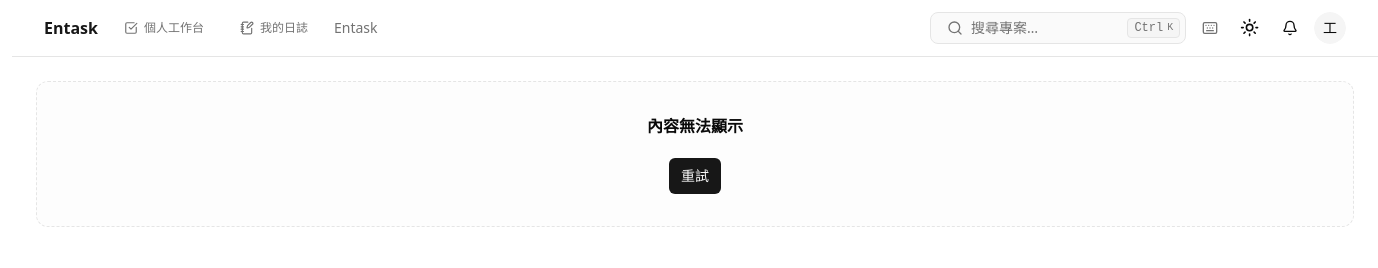
AppLayout 的 lazy 邊界在導覽後退場 › 子路由的 chunk 失敗後導覽到別的路由，錯誤畫面要退場
Click the link "個人工作台".
click(164, 28)  # box [124,19,204,36]
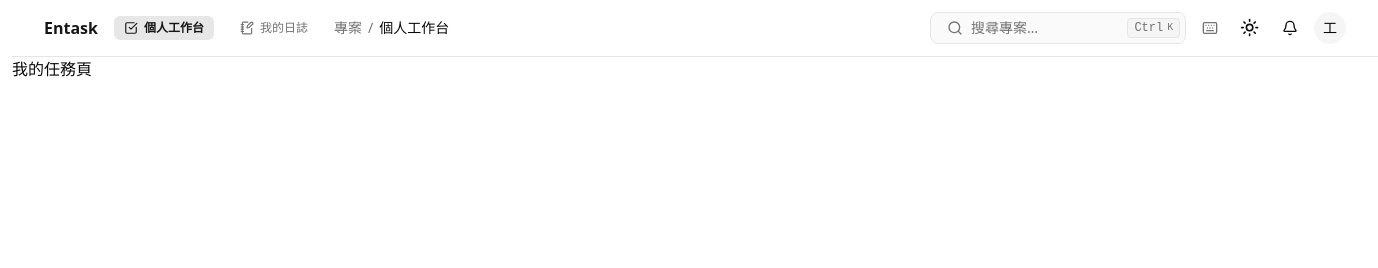
Now the text "我的任務頁" is shown, box [12,58,92,80]
Now the message "內容無法顯示 重試" is gone
